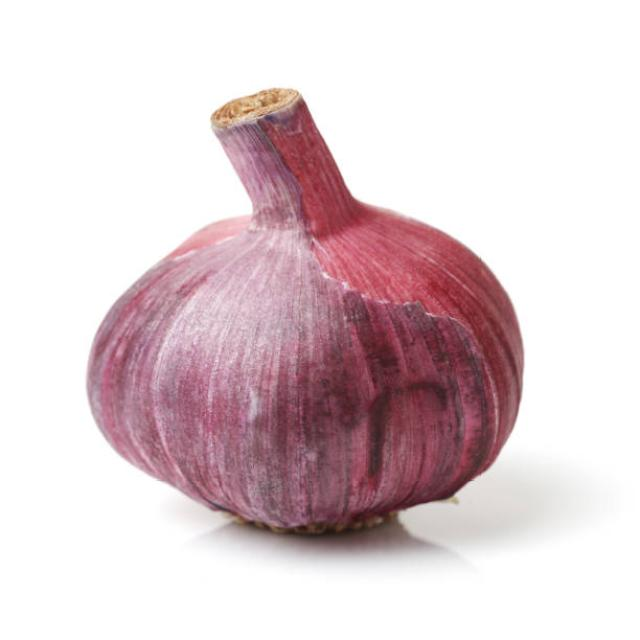onion: (77, 168, 526, 547)
